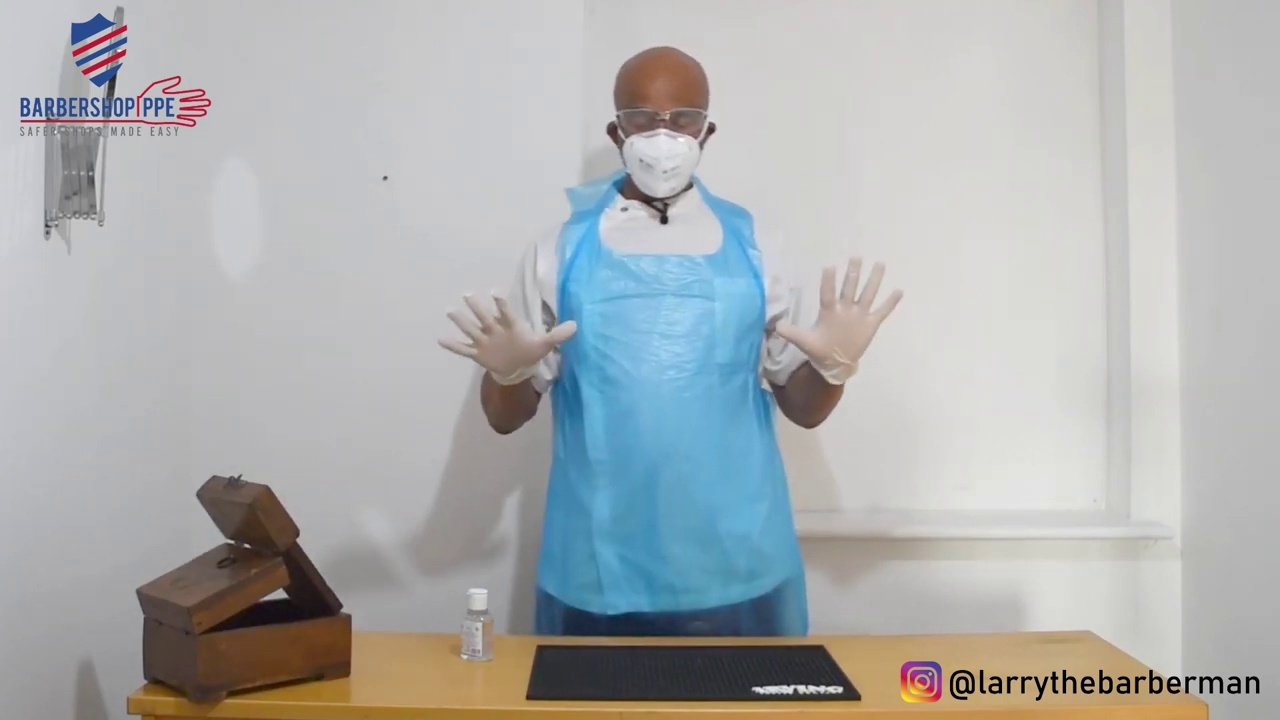Apron: (575, 173, 826, 655)
Glove: (784, 256, 923, 385), (444, 274, 584, 393)
Mask: (584, 123, 745, 200)
No_Hairnet: (601, 40, 738, 93)
